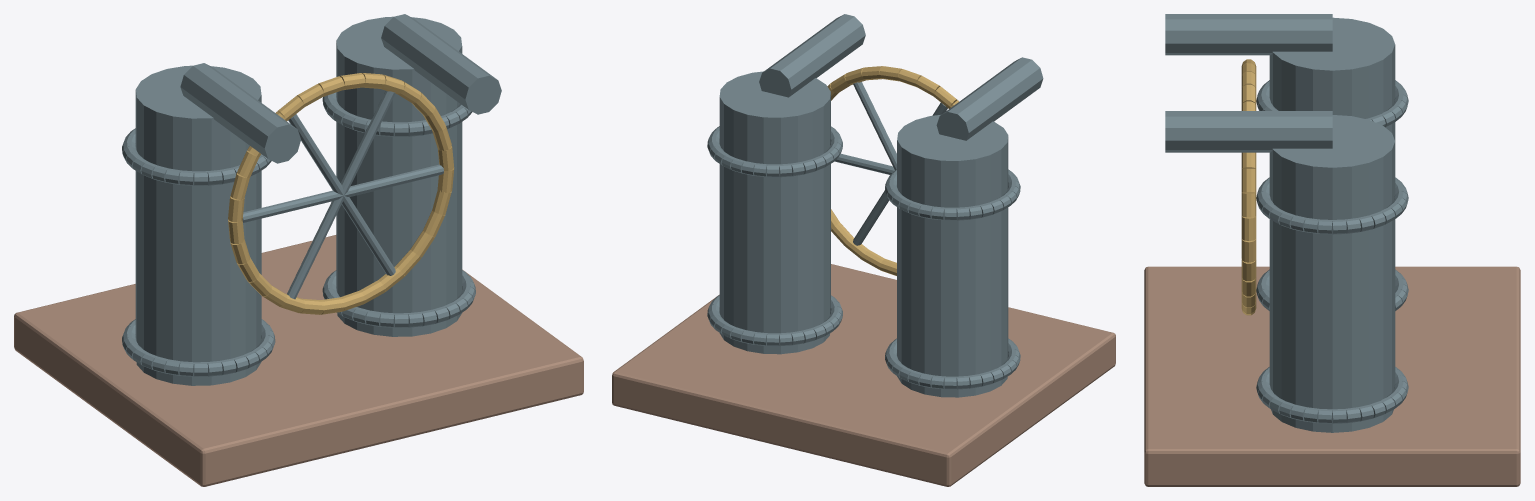
File: a2_secondary.glb
3 views of the same model, side by side, from view 1: azimuth 30°, elevation 25°; view 2: azimuth 150°, elevation 25°; view 3: azimuth 270°, elevation 25° (orthographic). The views are drawn at different scales.
Parts seen in each view (by area): view 1: Body.076; view 2: Body.076; view 3: Body.076.
Part boxes in pixels (left/top/right/bottom): Body.076: left=14, top=14, right=583, bottom=486; Body.076: left=612, top=14, right=1115, bottom=486; Body.076: left=1144, top=14, right=1520, bottom=486.
Bounding box in the file's own units: 2.1 × 1.75 × 1.8.
